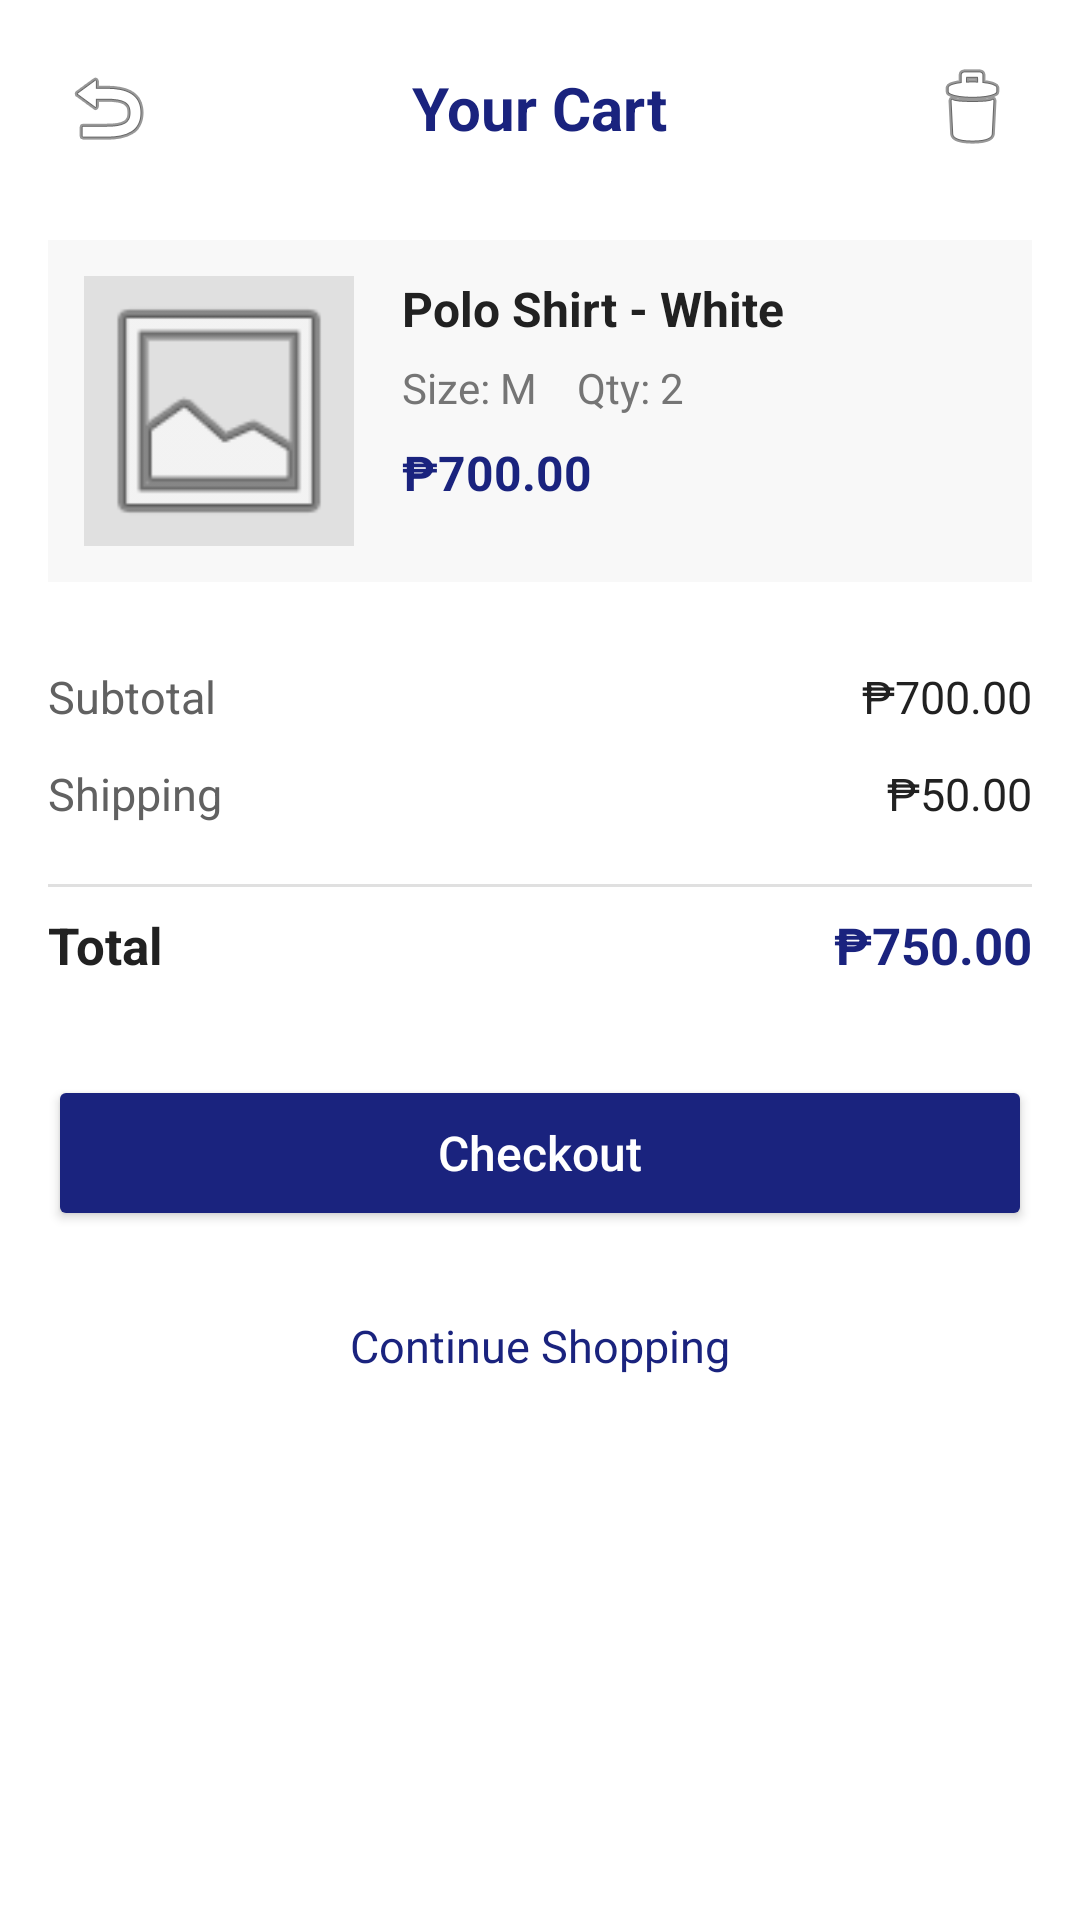

Icons on this 1080*1920 Android screen, each with its box as (x1, y1, x2, y2):
Back: (75, 77, 144, 140)
Delete: (945, 69, 1000, 144)
